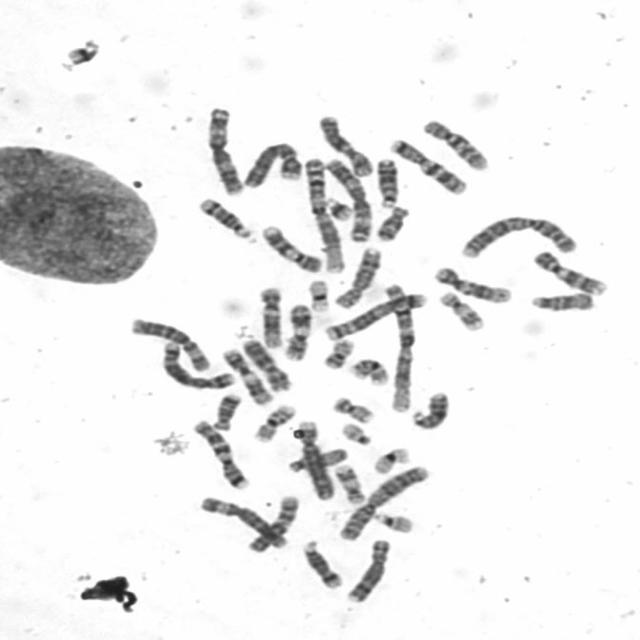A1: (299, 157, 346, 274), (382, 282, 418, 414)
A2: (334, 465, 433, 540), (459, 216, 580, 258)
A3: (200, 106, 247, 196), (324, 160, 372, 243)
B4: (295, 420, 336, 500), (240, 142, 303, 188)
B5: (323, 292, 429, 344), (161, 342, 236, 391)
C10: (246, 493, 303, 555), (423, 120, 490, 172)
C11: (220, 347, 273, 405), (283, 304, 313, 361)
C12: (432, 266, 512, 304), (256, 287, 285, 349)
C6: (196, 495, 287, 549), (130, 319, 213, 373)
C7: (387, 138, 469, 198), (189, 419, 251, 490)
C8: (346, 537, 392, 604), (334, 247, 382, 308)
C9: (531, 249, 610, 297), (260, 225, 323, 274)
D13: (412, 388, 454, 430), (376, 158, 402, 209)
D14: (194, 197, 258, 245), (301, 541, 345, 591)
D15: (284, 447, 348, 475), (525, 293, 598, 312)
E16: (251, 403, 299, 443), (348, 358, 388, 388)
E17: (439, 291, 486, 333), (330, 464, 366, 503)
E18: (374, 206, 411, 242), (212, 393, 244, 432)
F19: (371, 447, 414, 475), (308, 280, 332, 313)
F20: (328, 395, 374, 423), (321, 338, 356, 370)
G21: (64, 37, 105, 67), (322, 196, 355, 222)
G22: (369, 511, 414, 534), (338, 421, 375, 446)
X: (316, 113, 374, 177), (241, 337, 293, 392)
